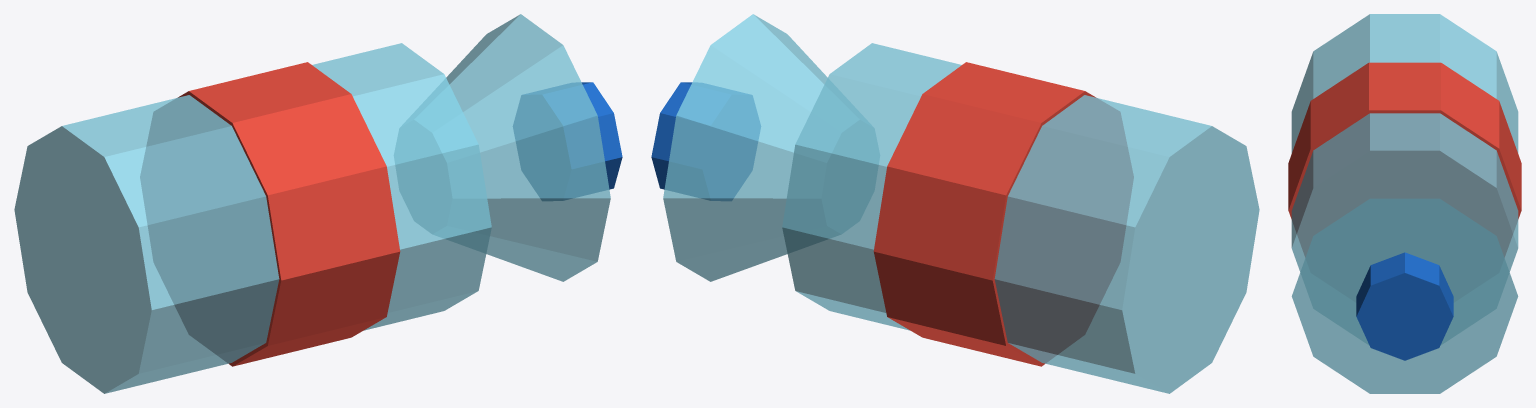
File: trash_bottle.glb
3 renders of one model, left to right at view 1: azimuth 30°, elevation 25°; view 2: azimuth 150°, elevation 25°; view 3: azimuth 270°, elevation 25°, orthographic. The views are drawn at different scales.
Visible parts, largest first — view 1: plastic, label, cap; view 2: plastic, label, cap; view 3: plastic, label, cap.
Boxes of the visible parts, <box> form: plastic: <box>14,14,610,393</box>; label: <box>140,62,400,366</box>; cap: <box>513,82,622,200</box>; plastic: <box>663,14,1259,393</box>; label: <box>873,62,1133,366</box>; cap: <box>651,82,760,200</box>; plastic: <box>1291,14,1518,393</box>; label: <box>1288,62,1521,256</box>; cap: <box>1356,252,1453,360</box>.
Size of the model in its own units: 0.3 by 0.137 by 0.144.
